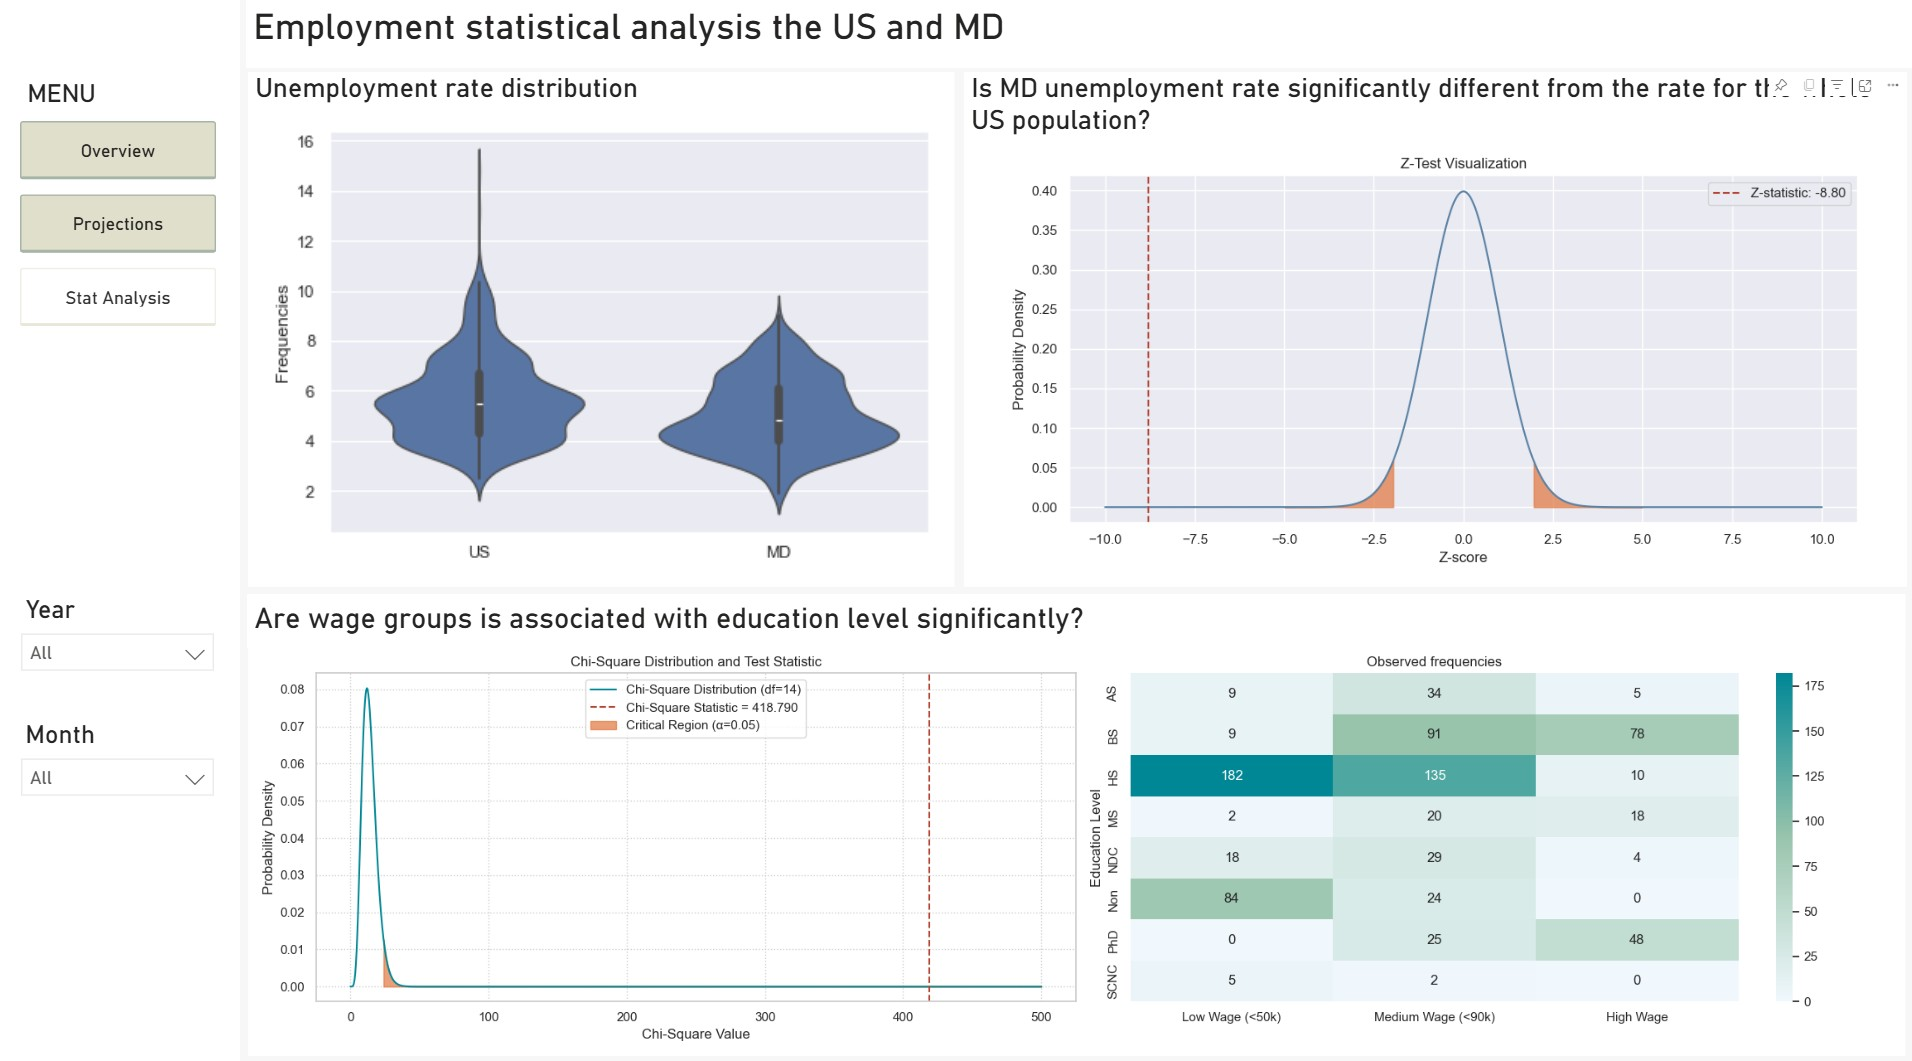

What the dashboard file says about the page in this screenshot:
{"tool":"powerbi","page":{"name":"Stat Analysis","canvas":[1280,720],"ordinal":2},"visuals":[{"type":"shape","box":[0,0,163,720],"z":0,"group":"g1"},{"type":"pythonVisual","title":"Are wage groups is associated with educational level significantly?","fields":{"Values":["Employment Projections_Industries.Education Code","Employment Projections_Industries.Median Annual Wage 2024","Employment Projections_Industries.EducationAbbr","Employment Projections_Industries.Occupation Code","Employment Projections_Industries.Employment 2023","Employment Projections_Industries.Employment 2033","Employment Projections_Industries.Wage2024"]},"box":[162.7,415.4,1117,304],"z":0,"group":"g2"},{"type":"group","id":"g1","title":"SideBar","box":[0,0,163,720],"z":1000},{"type":"slicer","title":"Slicer Year","fields":{"Values":["DateTable.Year"]},"box":[6.5,393,148.9,79.2],"z":1000,"group":"g1"},{"type":"textbox","box":[167.7,397.4,1108,36],"z":1000,"group":"g2"},{"type":"textbox","title":"Title","box":[167.1,0,1112.9,46.4],"z":2000},{"type":"slicer","title":"Slicer Months","fields":{"Values":["DateTable.Month Name"]},"box":[6.5,476.5,148.9,76.3],"z":2000,"group":"g1"},{"type":"pageNavigator","box":[15.7,81.4,131.4,137.1],"z":2250,"group":"g1"},{"type":"textbox","title":"Menu title","box":[16,47.9,140.8,30.5],"z":2500,"group":"g1"},{"type":"group","id":"g2","title":"Chi-testEducation","box":[162.7,397.4,1117,322],"z":3000},{"type":"pythonVisual","title":"Unemployment rate distribution","fields":{"Values":["US_UR_monthly.Date","US_UR_monthly.Rate","MD_empl_seasnl_adj_1976_2025.unempl rate"]},"box":[168.4,48.6,471.9,344.4],"z":4000},{"type":"pythonVisual","title":"Is MD unemployment rate significantly different from the rate for the whole US population?","fields":{"Values":["US_UR_monthly.Rate","US_UR_monthly.Date","MD_empl_seasnl_adj_1976_2025.unempl rate"]},"box":[646.4,48.6,629.7,344.4],"z":5000}]}

Visuals, with their boxes in screenshot pixels (x1, y1, x2, y2), scaled from the page's 1280x720 canvas onto the 1912x1061 screenshot:
shape: (0,0,243,1060)
"Are wage groups is associated with educational level significantly?" pythonVisual: (243,612,1911,1060)
"SideBar" group: (0,0,243,1060)
"Slicer Year" slicer: (10,579,232,696)
textbox: (251,586,1906,639)
"Title" textbox: (250,0,1911,68)
"Slicer Months" slicer: (10,702,232,815)
pageNavigator: (23,120,220,322)
"Menu title" textbox: (24,71,234,116)
"Chi-testEducation" group: (243,586,1911,1060)
"Unemployment rate distribution" pythonVisual: (252,72,956,579)
"Is MD unemployment rate significantly different from the rate for the whole US population?" pythonVisual: (966,72,1906,579)
